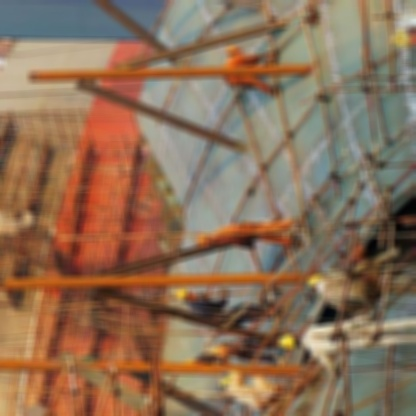yellow: (304, 272, 330, 288), (170, 284, 190, 302), (276, 333, 298, 348)
